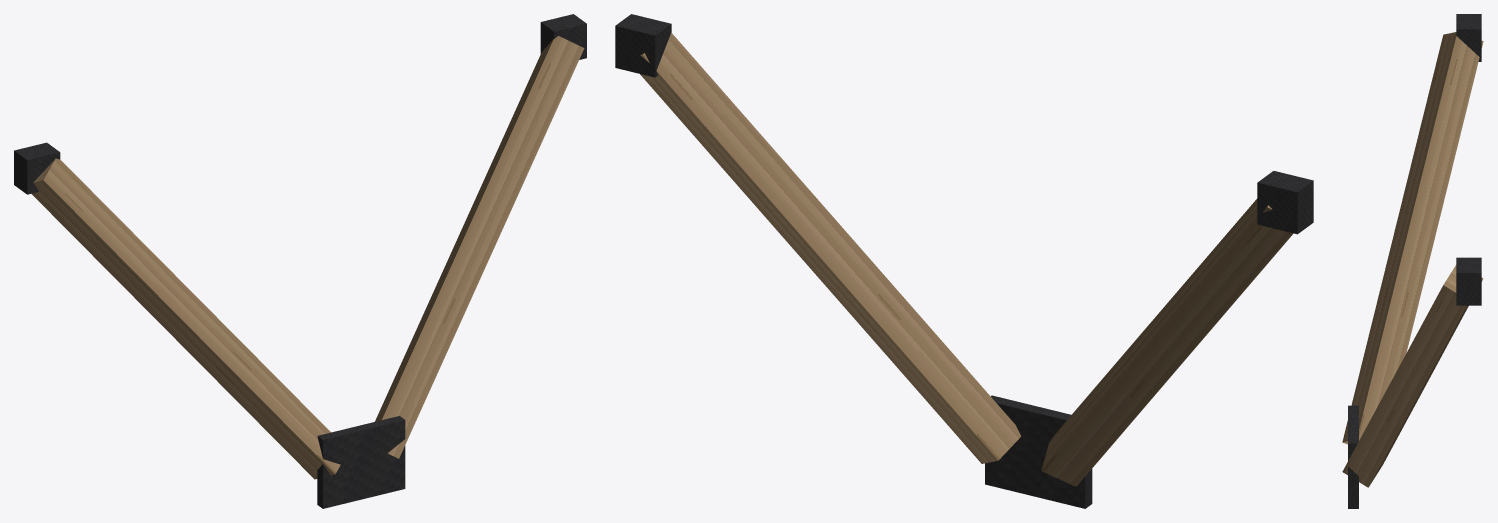
Rendered from brace_lr.obj.
3 renders of one model, left to right at view 1: azimuth 30°, elevation 25°; view 2: azimuth 150°, elevation 25°; view 3: azimuth 270°, elevation 25°, orthographic. The views are drawn at different scales.
Visible parts, largest first — view 1: crossarm_brace_wood_lr; view 2: crossarm_brace_wood_lr; view 3: crossarm_brace_wood_lr.
Boxes of the visible parts, x1,y1,x2,y2 form: crossarm_brace_wood_lr: [14, 14, 586, 508]; crossarm_brace_wood_lr: [615, 14, 1313, 508]; crossarm_brace_wood_lr: [1342, 14, 1483, 508].
Bounding box in the file's own units: 2.12 × 1.32 × 0.4899.
